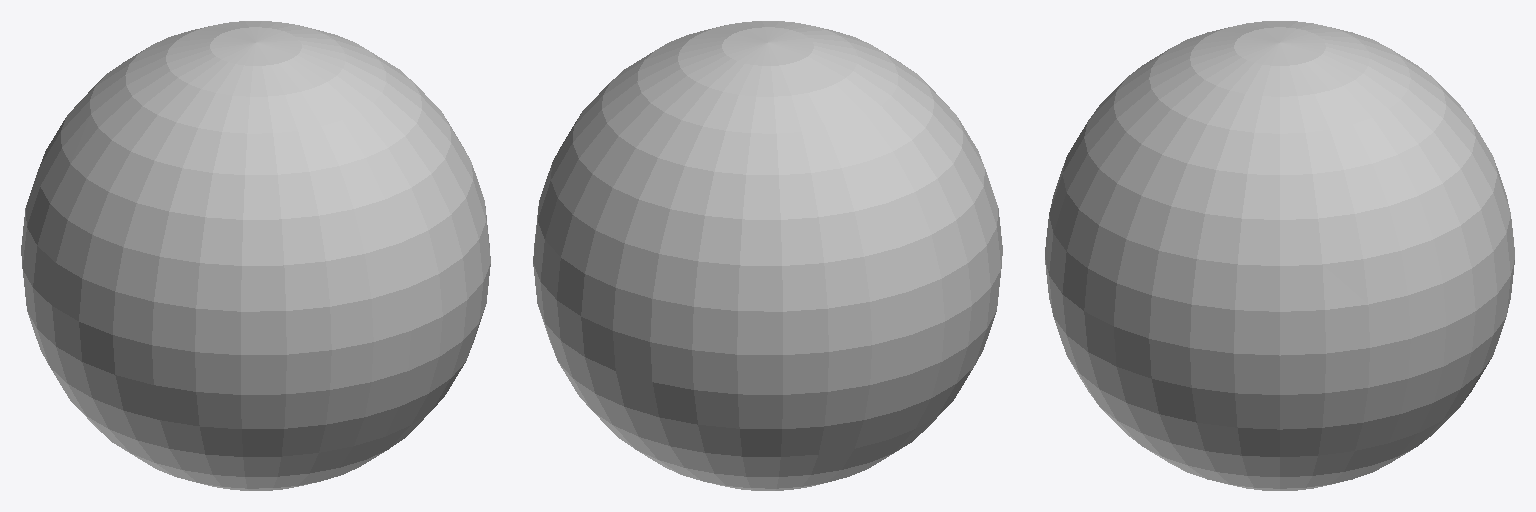
File: smallsphere.obj
3 renders of one model, left to right at view 1: azimuth 30°, elevation 25°; view 2: azimuth 150°, elevation 25°; view 3: azimuth 270°, elevation 25°, orthographic.
Visible parts, largest first — view 1: Sphere; view 2: Sphere; view 3: Sphere.
Part boxes in pixels (bbox=[...]): Sphere: bbox=[21, 21, 490, 490]; Sphere: bbox=[533, 21, 1002, 490]; Sphere: bbox=[1045, 21, 1514, 490].
Bounding box in the file's own units: 0.1536 × 0.1536 × 0.1536.